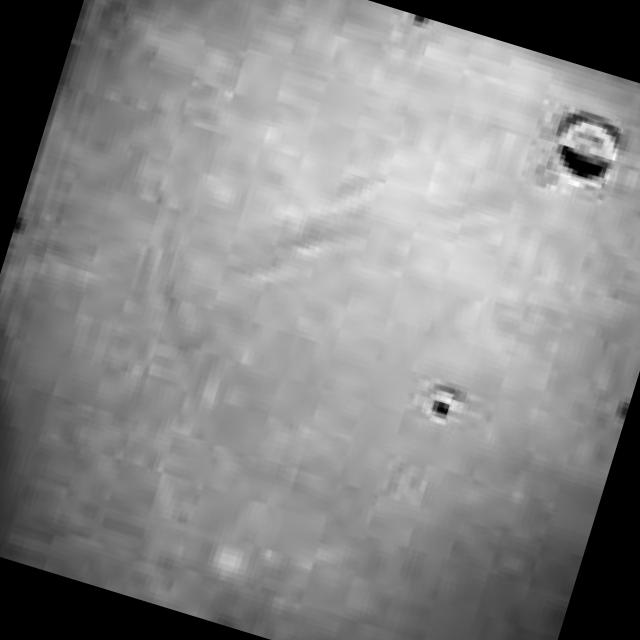crater: (545, 111, 621, 186), (423, 389, 455, 420)
